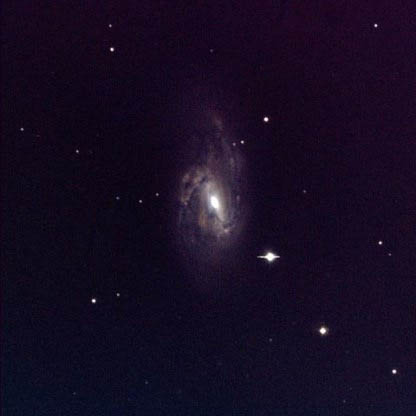Messier 66: (156, 96, 291, 284)
